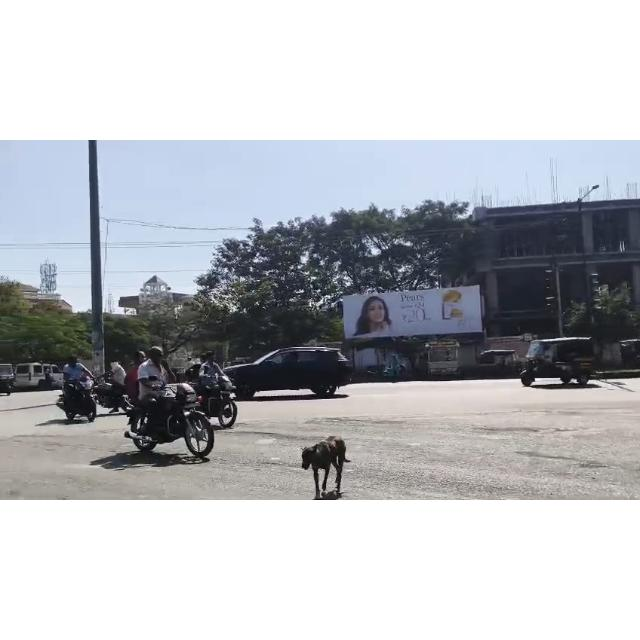auto: (518, 335, 604, 389), (475, 346, 525, 379), (0, 361, 16, 397)
car: (222, 342, 361, 403)
